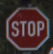stopsign: (6, 6, 50, 51)
